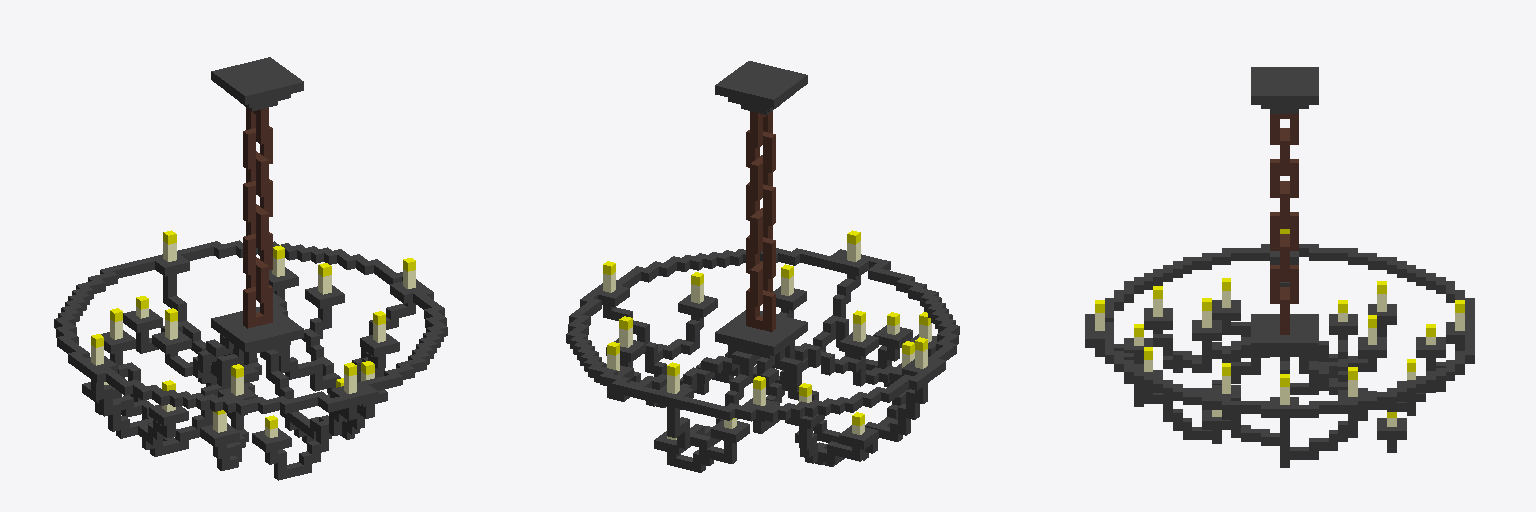
3 views of the same model, side by side, from view 1: azimuth 30°, elevation 25°; view 2: azimuth 150°, elevation 25°; view 3: azimuth 270°, elevation 25° (orthographic).
Parts seen in each view (by area): view 1: object 1; view 2: object 1; view 3: object 1.
Part boxes in pixels (left/top/right/bottom): object 1: left=54, top=57, right=447, bottom=480; object 1: left=566, top=61, right=959, bottom=472; object 1: left=1085, top=67, right=1474, bottom=467.
Bounding box in the file's own units: 4 × 4 × 4.
Materials: 1 (1 with a texture image).